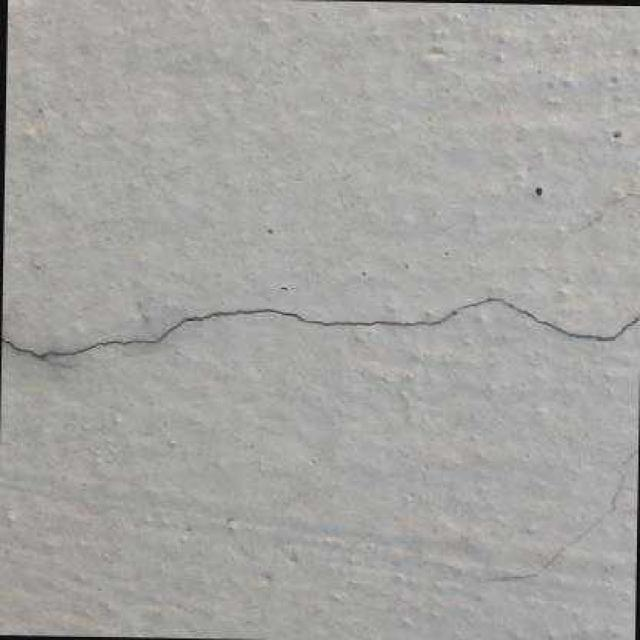D00: (0, 297, 640, 358)
